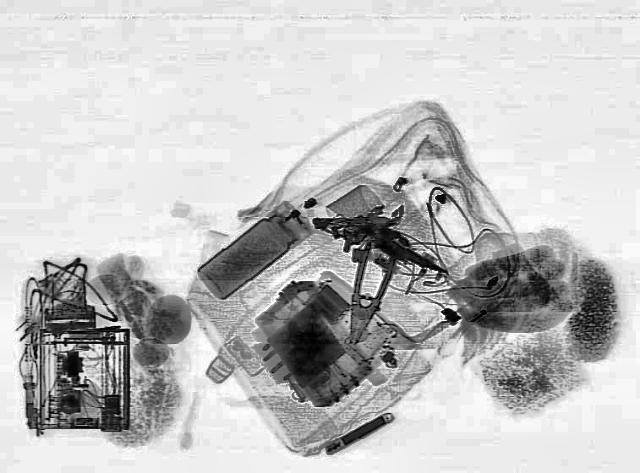Pliers: (334, 241, 400, 343)
